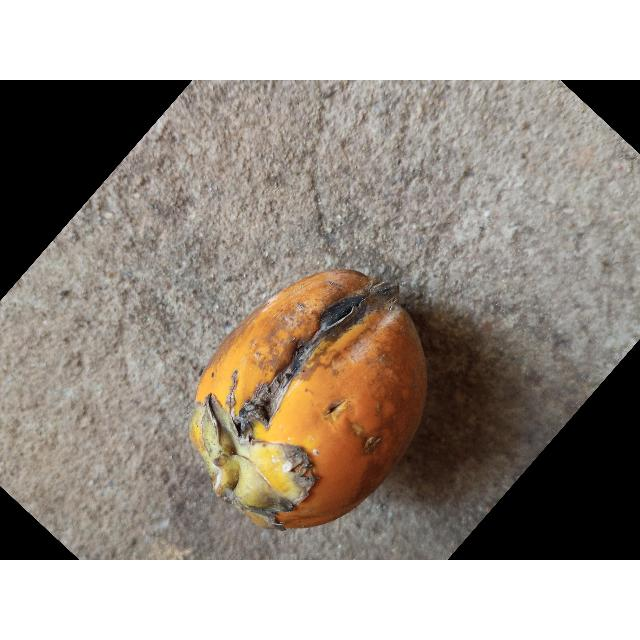damaged: (189, 270, 428, 532)
